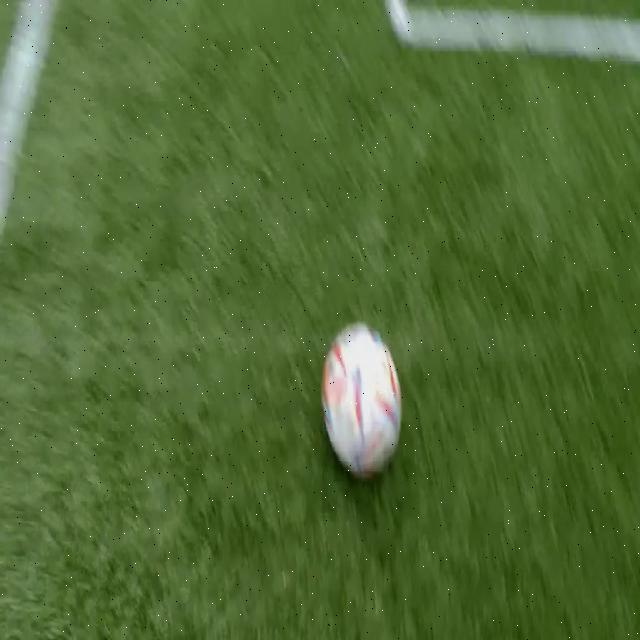ball: (322, 324, 401, 477)
